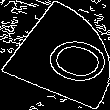O_NW: (10, 23, 100, 87)
